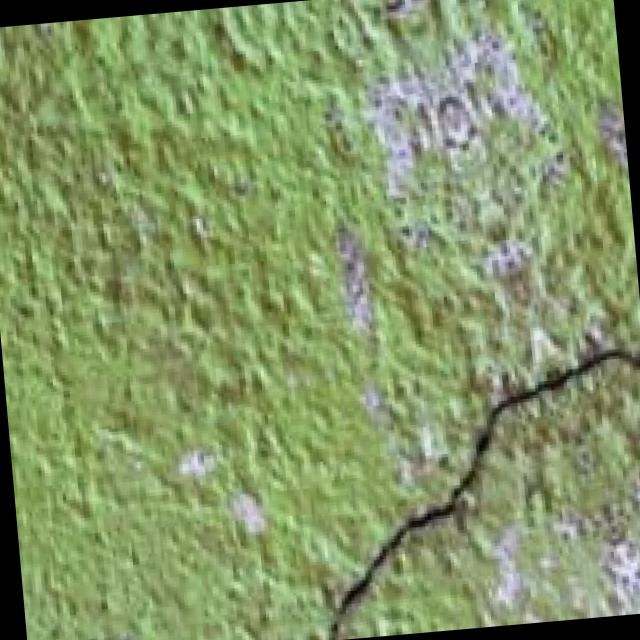crack: (303, 318, 640, 637)
